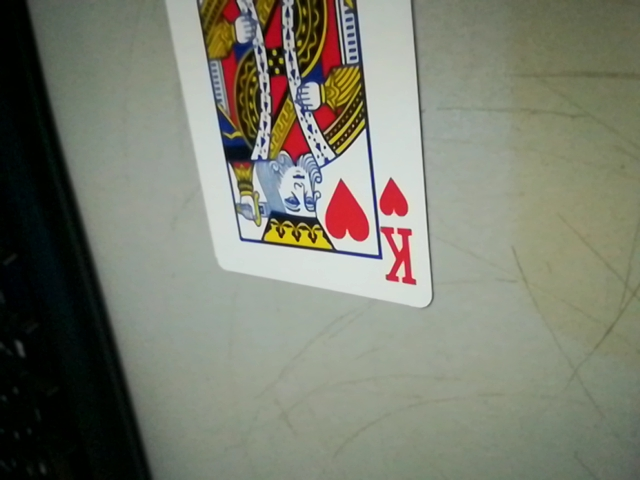hx k: (372, 168, 429, 299)
